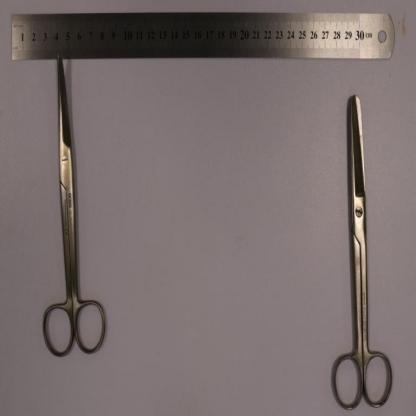Curved Mayo Scissors: (42, 51, 108, 360)
Dressing Scissors: (332, 96, 395, 413)
